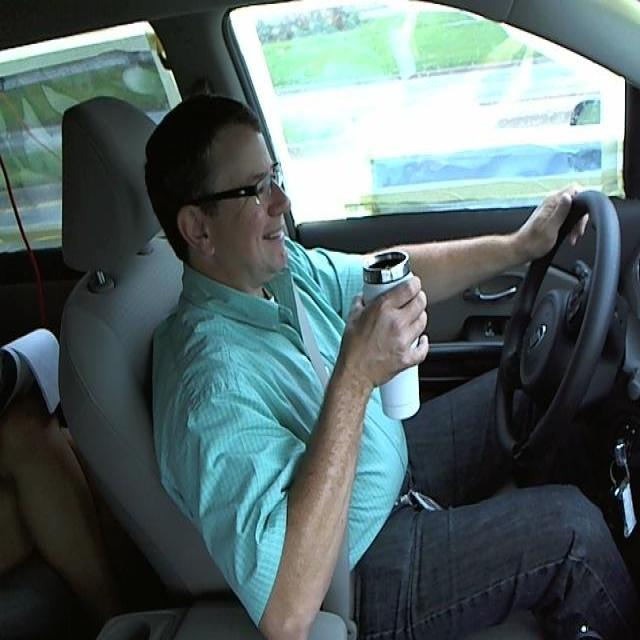Seatbelt: (367, 252, 425, 419)
